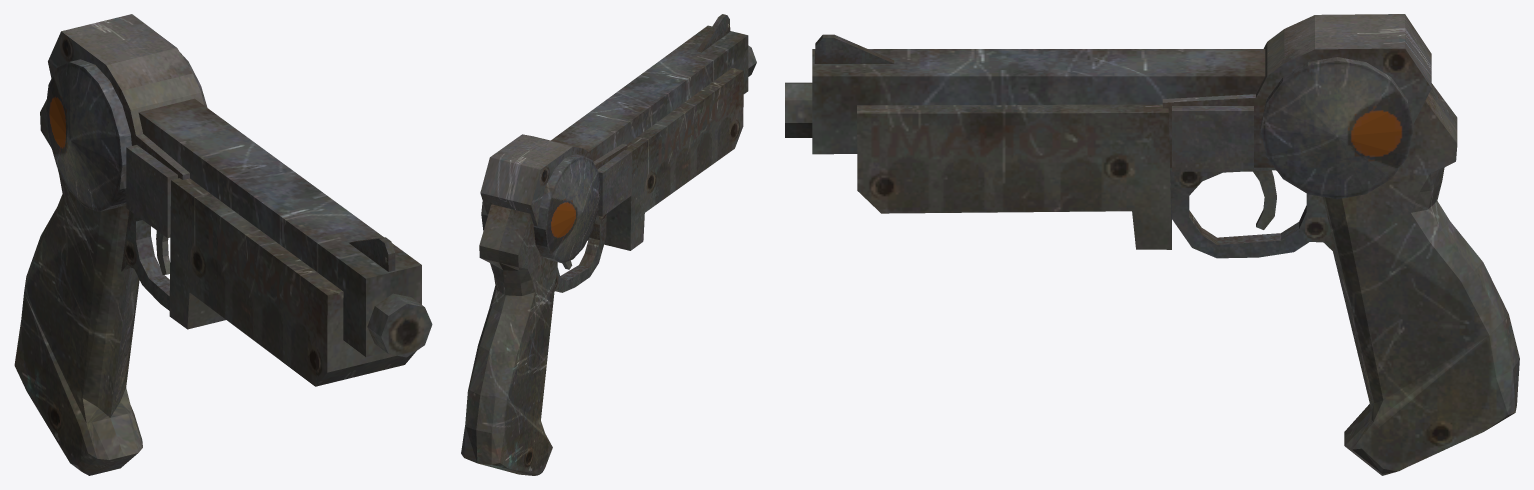
Rendered from Laser Pistol.obj.
3 renders of one model, left to right at view 1: azimuth 30°, elevation 25°; view 2: azimuth 150°, elevation 25°; view 3: azimuth 270°, elevation 25°, orthographic. The views are drawn at different scales.
Visible parts, largest first — view 1: Mesh_0174; view 2: Mesh_0174; view 3: Mesh_0174.
Part boxes in pixels (x1,y1,x2,y2): Mesh_0174: (14, 14, 432, 475); Mesh_0174: (461, 14, 756, 475); Mesh_0174: (785, 14, 1519, 475).
Bounding box in the file's own units: 236 × 850 × 1290.
